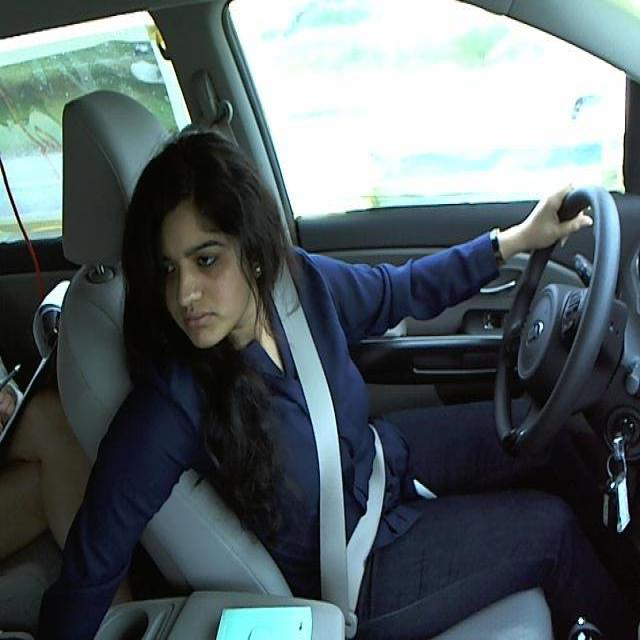seatbelt: (257, 289, 382, 616)
